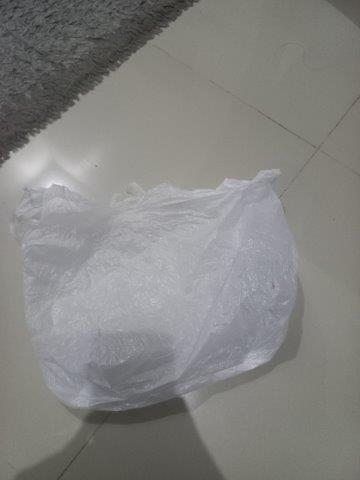plastik: (12, 167, 300, 413)
